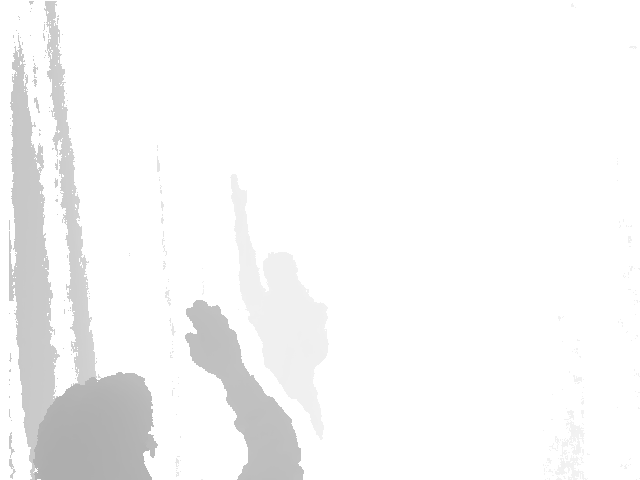hand: (182, 298, 243, 378), (227, 170, 249, 221)
head: (38, 368, 149, 480), (262, 246, 299, 297)
person: (33, 300, 306, 480), (222, 164, 336, 413)
